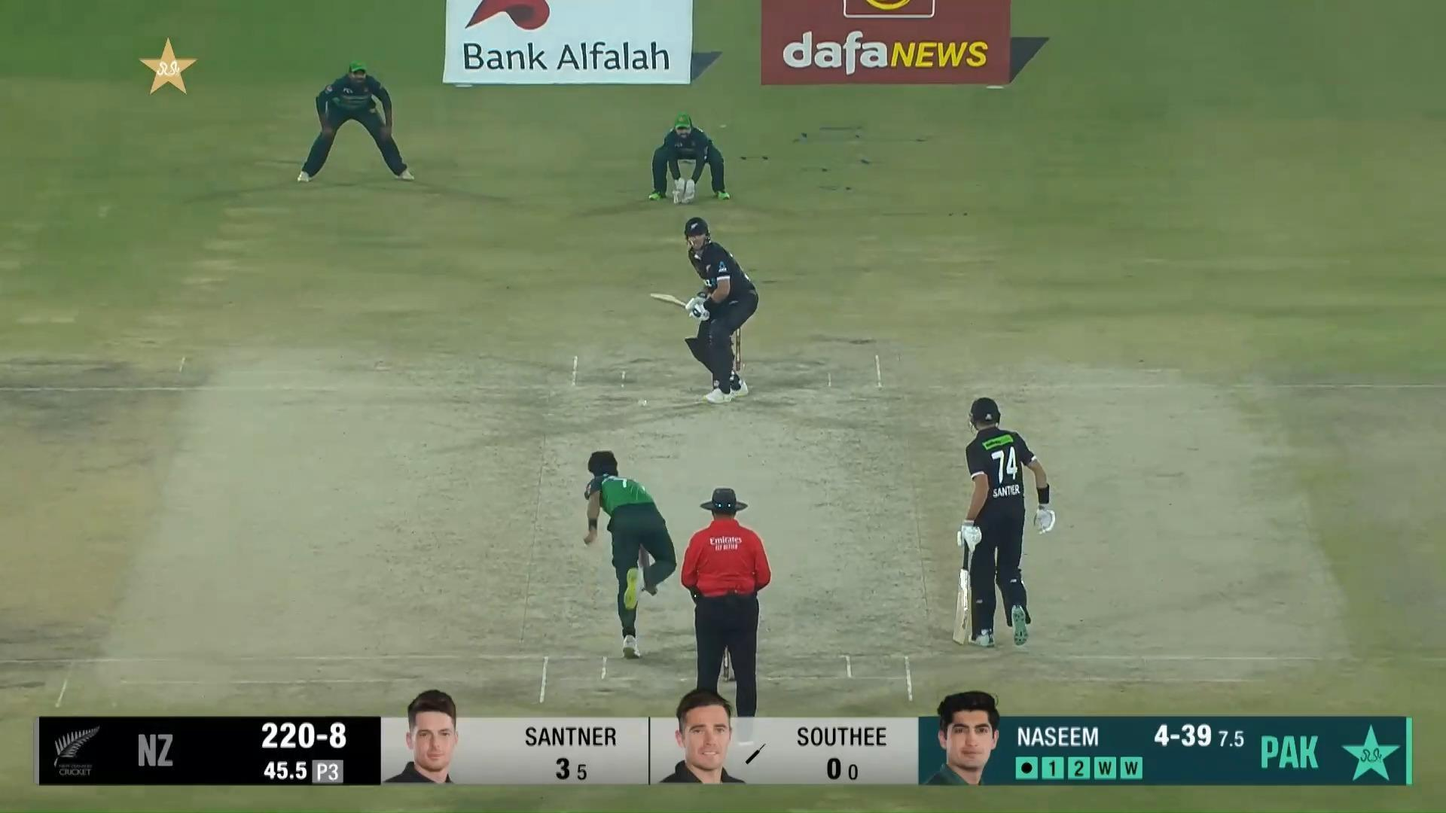BM 1: (647, 216, 760, 405)
BO: (582, 447, 680, 660)
